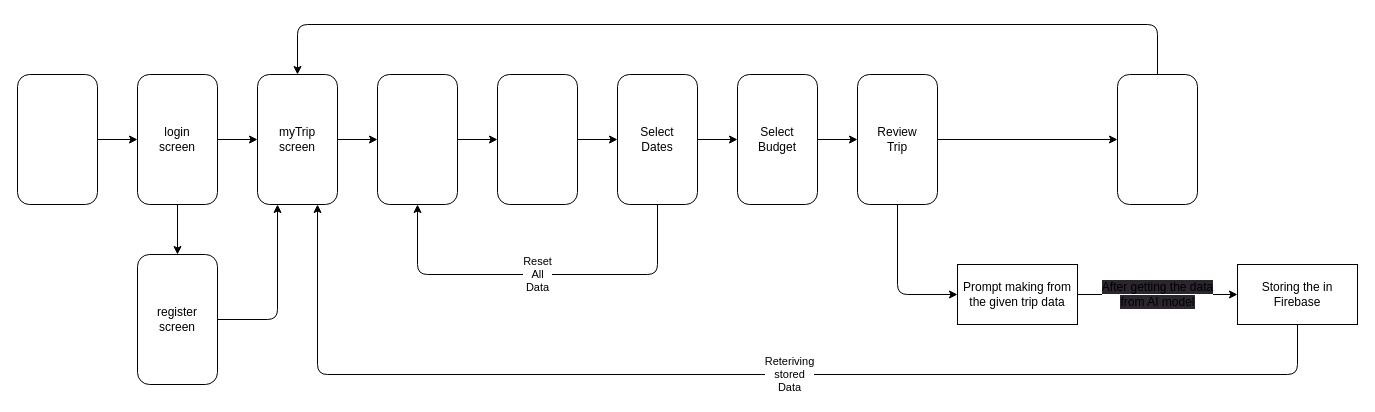
The diagram is 1375 pixels wide and 412 high, and some of its shapes have lost their labels. Here are the shapes that lost their labels. From the top down, the centre of each, then its label:
At pixel 57 139: "welcome screen".
At pixel 417 139: "Search Place".
At pixel 537 139: "Select Traveler".
At pixel 1157 139: "Loading Screen".
